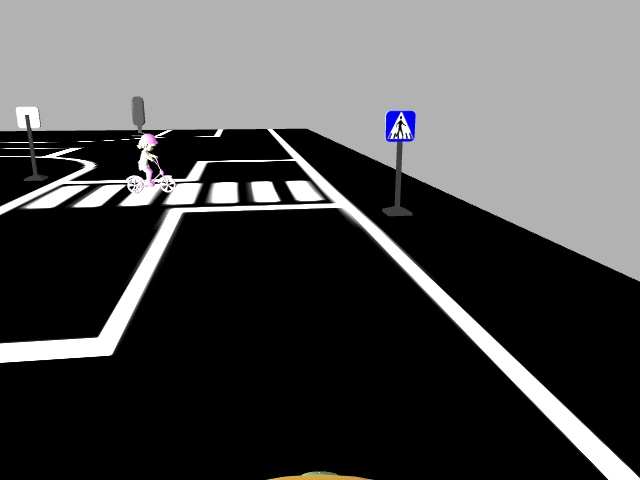Crosswalk: (383, 108, 416, 142)
Pedestrian: (118, 133, 177, 194)
